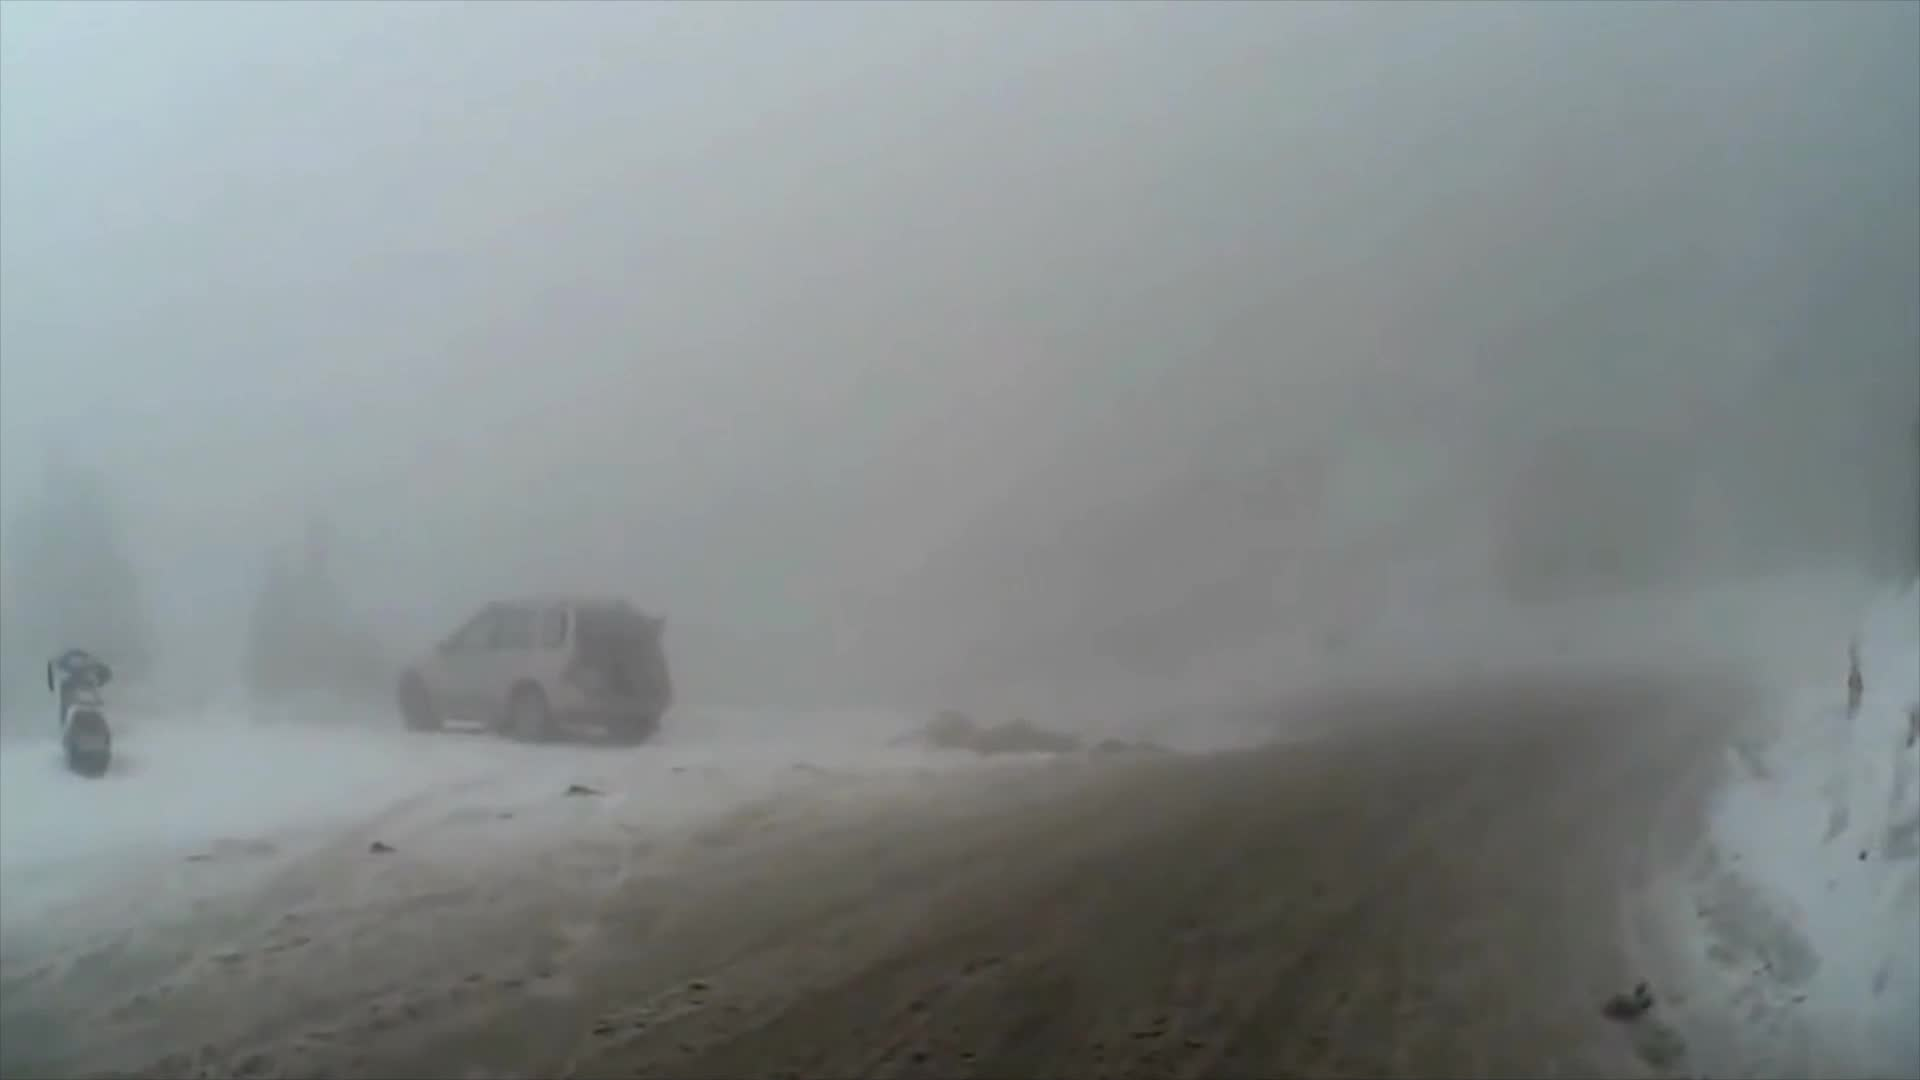vehicle: (388, 593, 671, 756)
